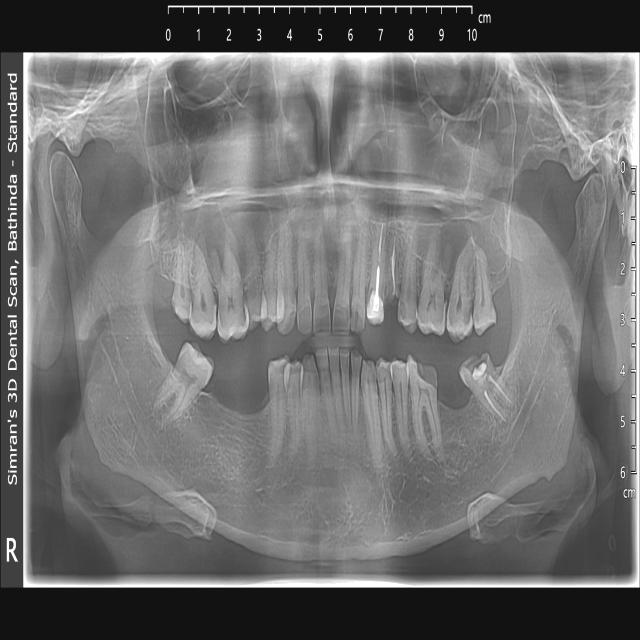Caries: (397, 288, 418, 331), (411, 361, 435, 385), (464, 350, 487, 369)
Filling: (447, 303, 474, 340), (376, 356, 390, 387), (368, 296, 382, 324)
Missing teeth: (209, 382, 262, 455), (442, 381, 474, 433)
Root Canal Treatment: (465, 355, 517, 430), (368, 211, 384, 323), (380, 231, 399, 302)
